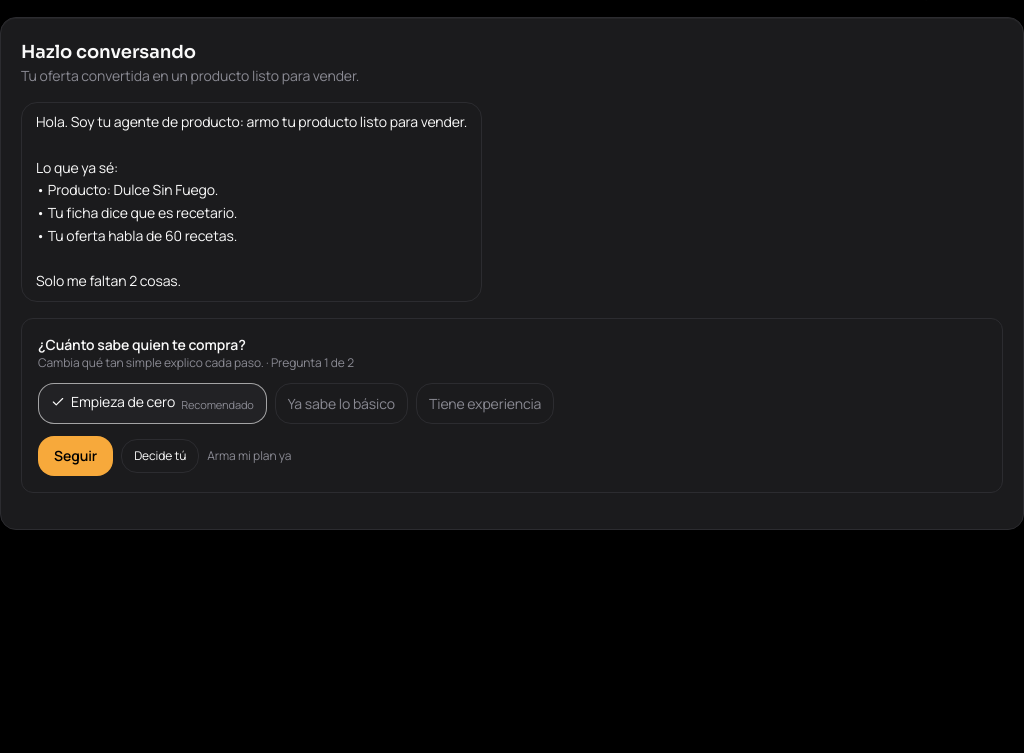
AgenteProducto · Dulce Sin Fuego › no pregunta lo que sabe, salta con «Decide tú» y arma el plan con el constructor de siempre
Expected: the text "Lo que ya sé" is shown, [36,112,467,290]
Expected: the text "¿Cuánto sabe quien te compra?" is shown, [38,335,246,354]
Click the button "Decide tú" at (160, 456), box [121,439,199,473]
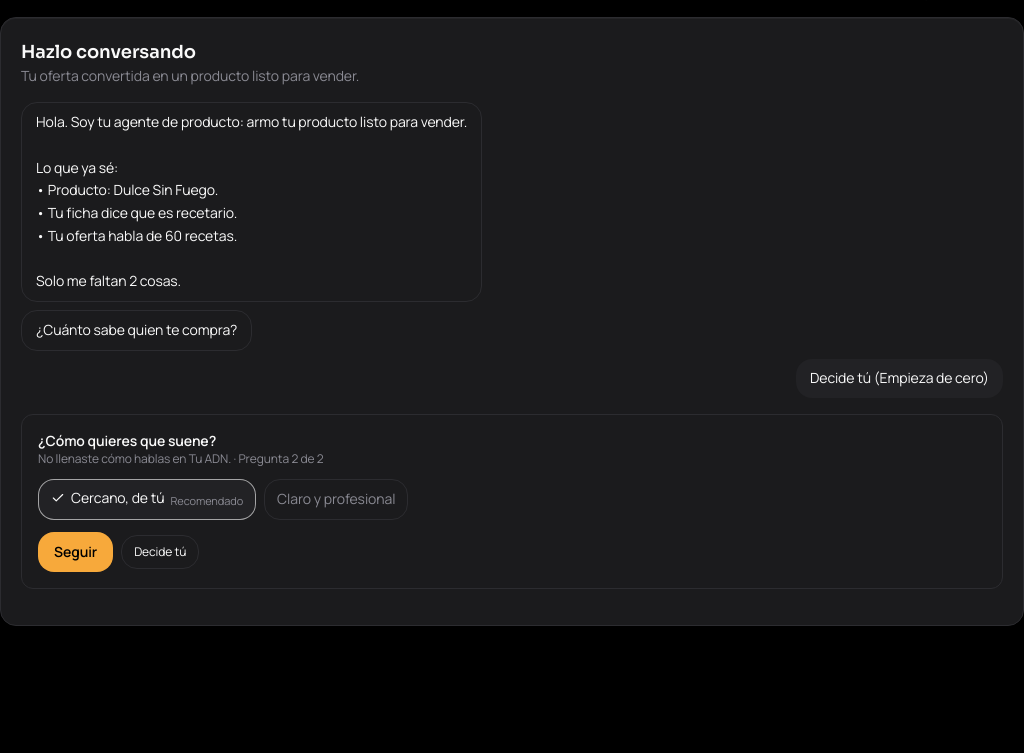
Click the button "Decide tú" at (160, 552), box [121,534,199,568]
(page scrolled)
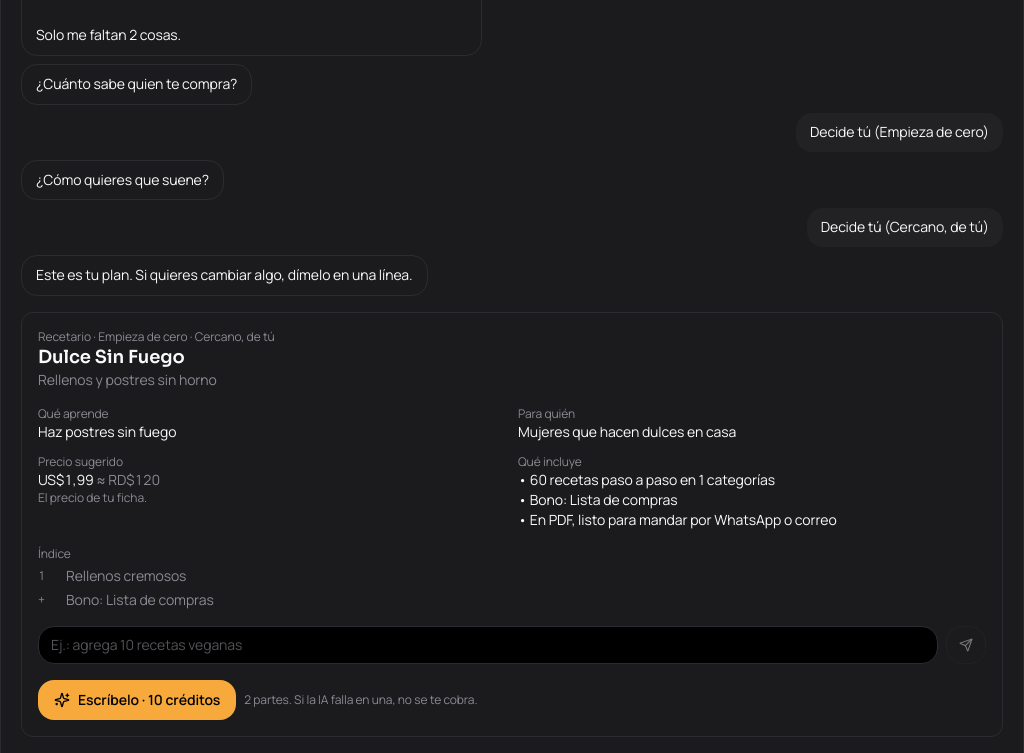
Expected: the text "US$1,99" is shown, [38,470,94,488]
Expected: the button "Escríbelo · 10 créditos" is shown, [38,680,236,720]
